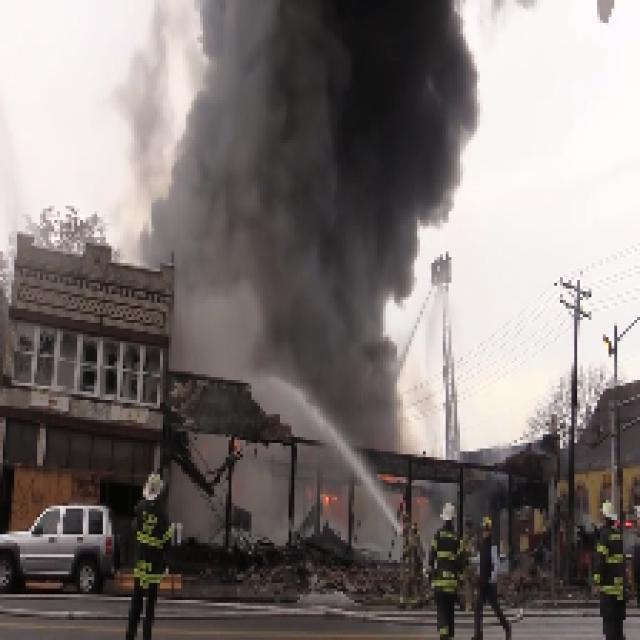Smoke: (167, 2, 480, 416)
